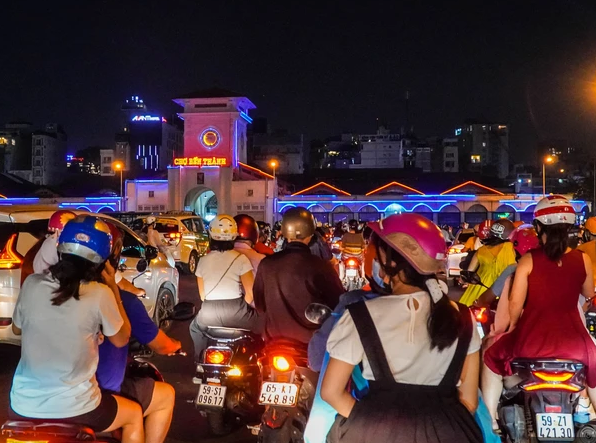Bien-so: (259, 381, 300, 408), (537, 413, 573, 441), (197, 384, 226, 406), (347, 269, 358, 277)
